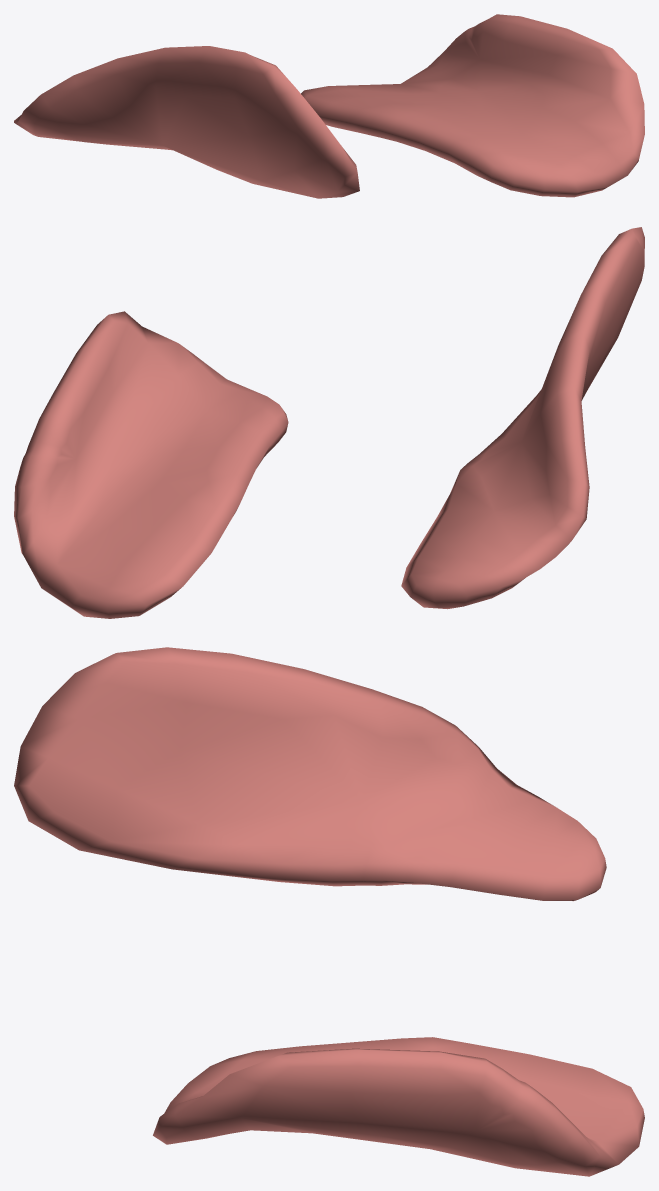
The picture shows the model from 3 angles, top to bottom: view 1: azimuth 30°, elevation 25°; view 2: azimuth 150°, elevation 25°; view 3: azimuth 270°, elevation 25°; orthographic projection. The views are drawn at different scales.
Visible parts, largest first — view 1: ZA_aab0b814834fb811; view 2: ZA_aab0b814834fb811; view 3: ZA_aab0b814834fb811.
Boxes of the visible parts, x1=… form: ZA_aab0b814834fb811: x1=14, y1=14, x2=644, y2=198; ZA_aab0b814834fb811: x1=14, y1=227, x2=644, y2=618; ZA_aab0b814834fb811: x1=14, y1=647, x2=644, y2=1176.
Bounding box in the file's own units: 0.00808 × 0.00398 × 0.00692.
